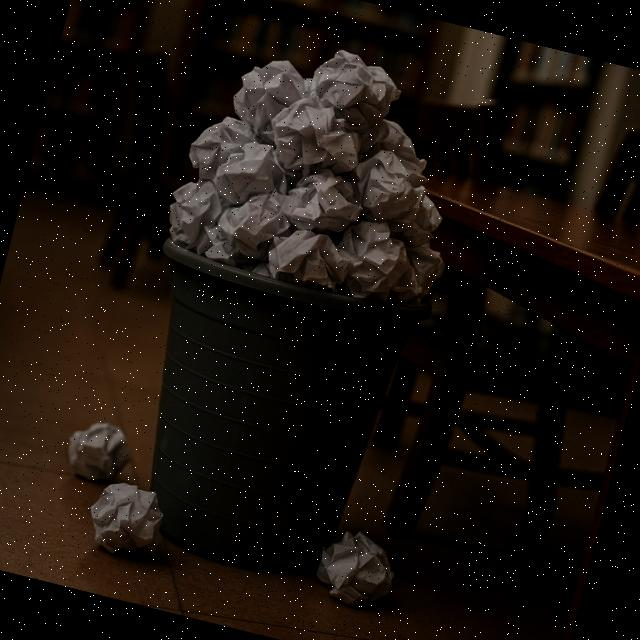paper: (309, 518, 407, 616), (306, 42, 404, 133), (77, 475, 173, 566), (58, 414, 136, 488)
